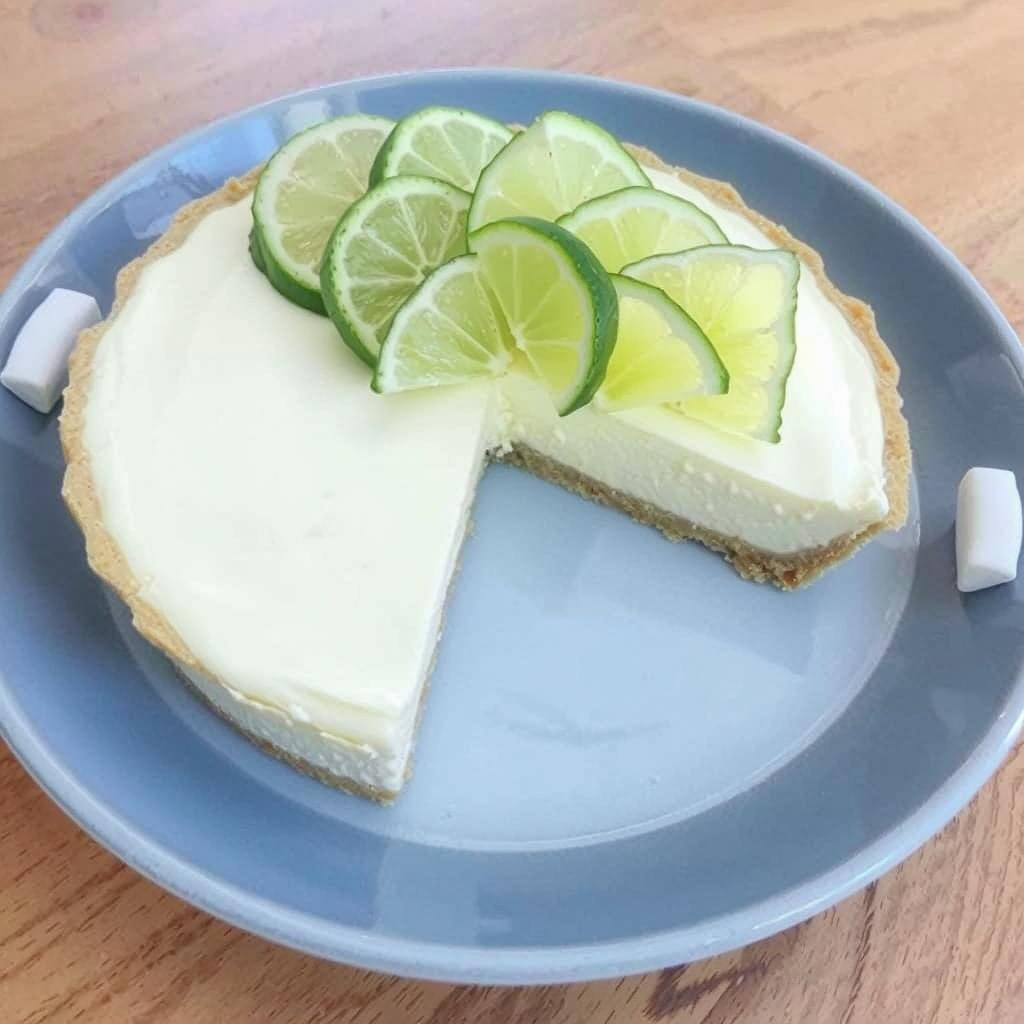pie: (51, 90, 914, 813)
